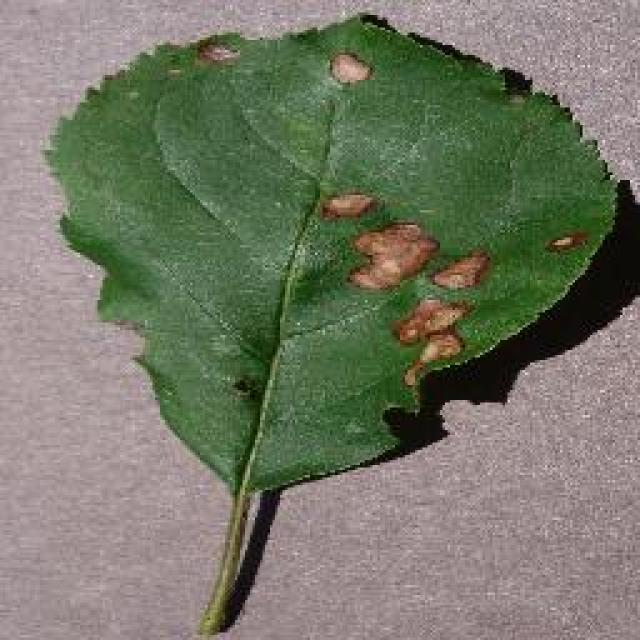Apple___Black_rot: (35, 6, 623, 499)
